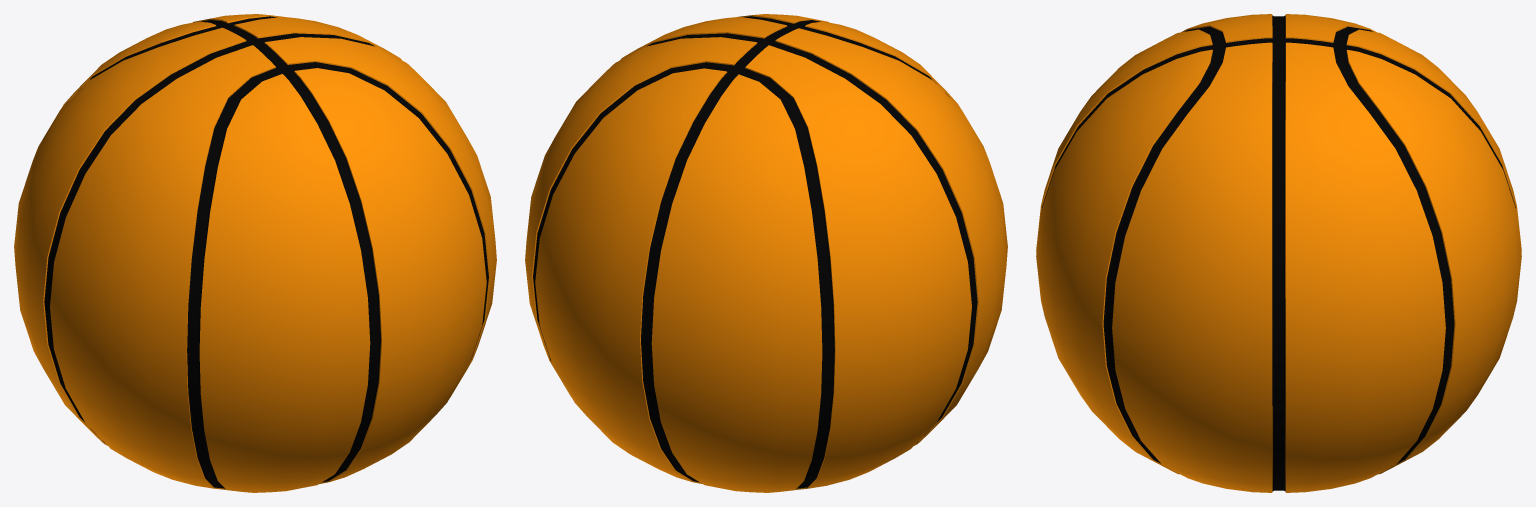
File: BBall.fbx
3 renders of one model, left to right at view 1: azimuth 30°, elevation 25°; view 2: azimuth 150°, elevation 25°; view 3: azimuth 270°, elevation 25°, orthographic.
Parts seen in each view (by area): view 1: Sphere01; view 2: Sphere01; view 3: Sphere01.
Boxes of the visible parts, x1,y1,x2,y2 form: Sphere01: [14, 14, 496, 492]; Sphere01: [525, 14, 1007, 492]; Sphere01: [1036, 14, 1521, 492].
Bounding box in the file's own units: 192 × 186 × 192.
